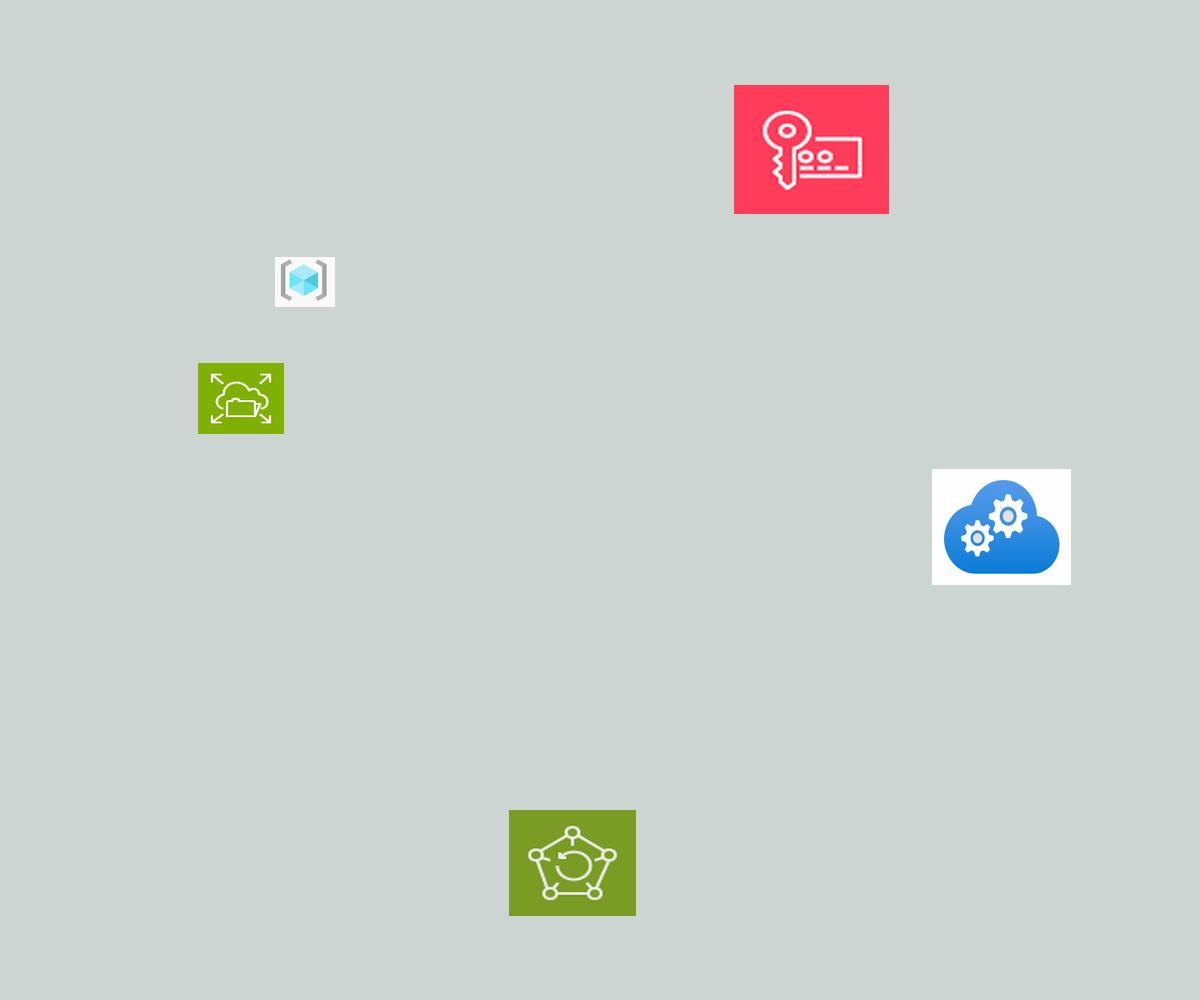AWS-Backup: (509, 810, 636, 916)
AWS-EFS: (198, 363, 284, 434)
AWS-Key-Management-Service: (734, 85, 889, 214)
Azure_cloud_services: (932, 469, 1071, 585)
Azure_resource_group: (275, 257, 335, 307)
